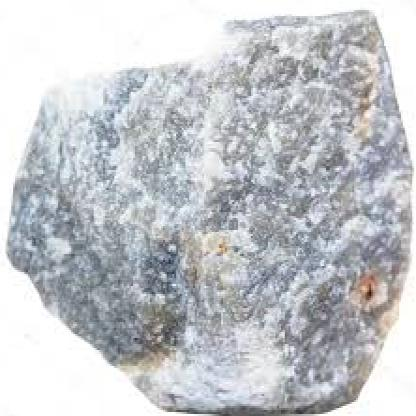Metamorphic_Marble: (1, 2, 416, 415)
